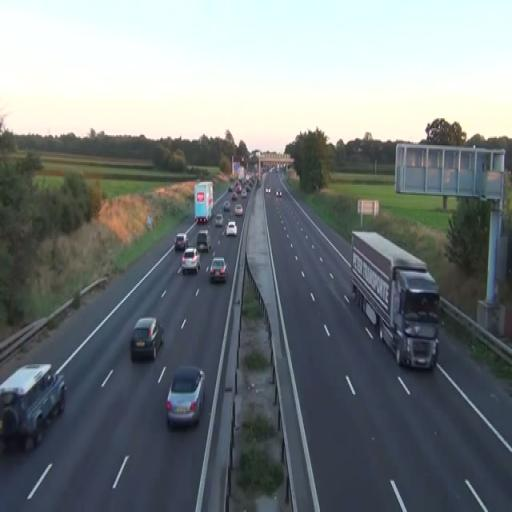Car: (166, 365, 206, 429), (130, 317, 164, 361), (181, 248, 201, 274), (210, 256, 228, 284), (197, 230, 211, 254), (174, 233, 188, 252), (226, 220, 237, 237), (214, 212, 224, 226), (234, 204, 244, 218)
Truck: (350, 230, 440, 372), (0, 362, 67, 454), (194, 181, 214, 224)
